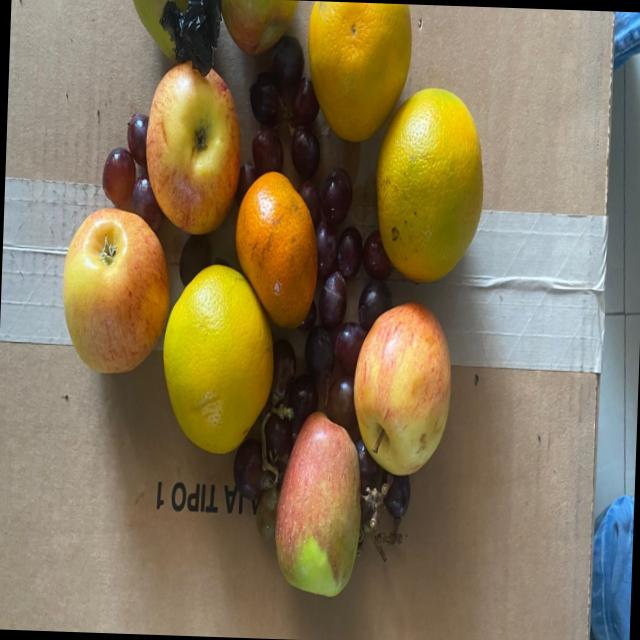bolsa_negra: (161, 4, 219, 84)
